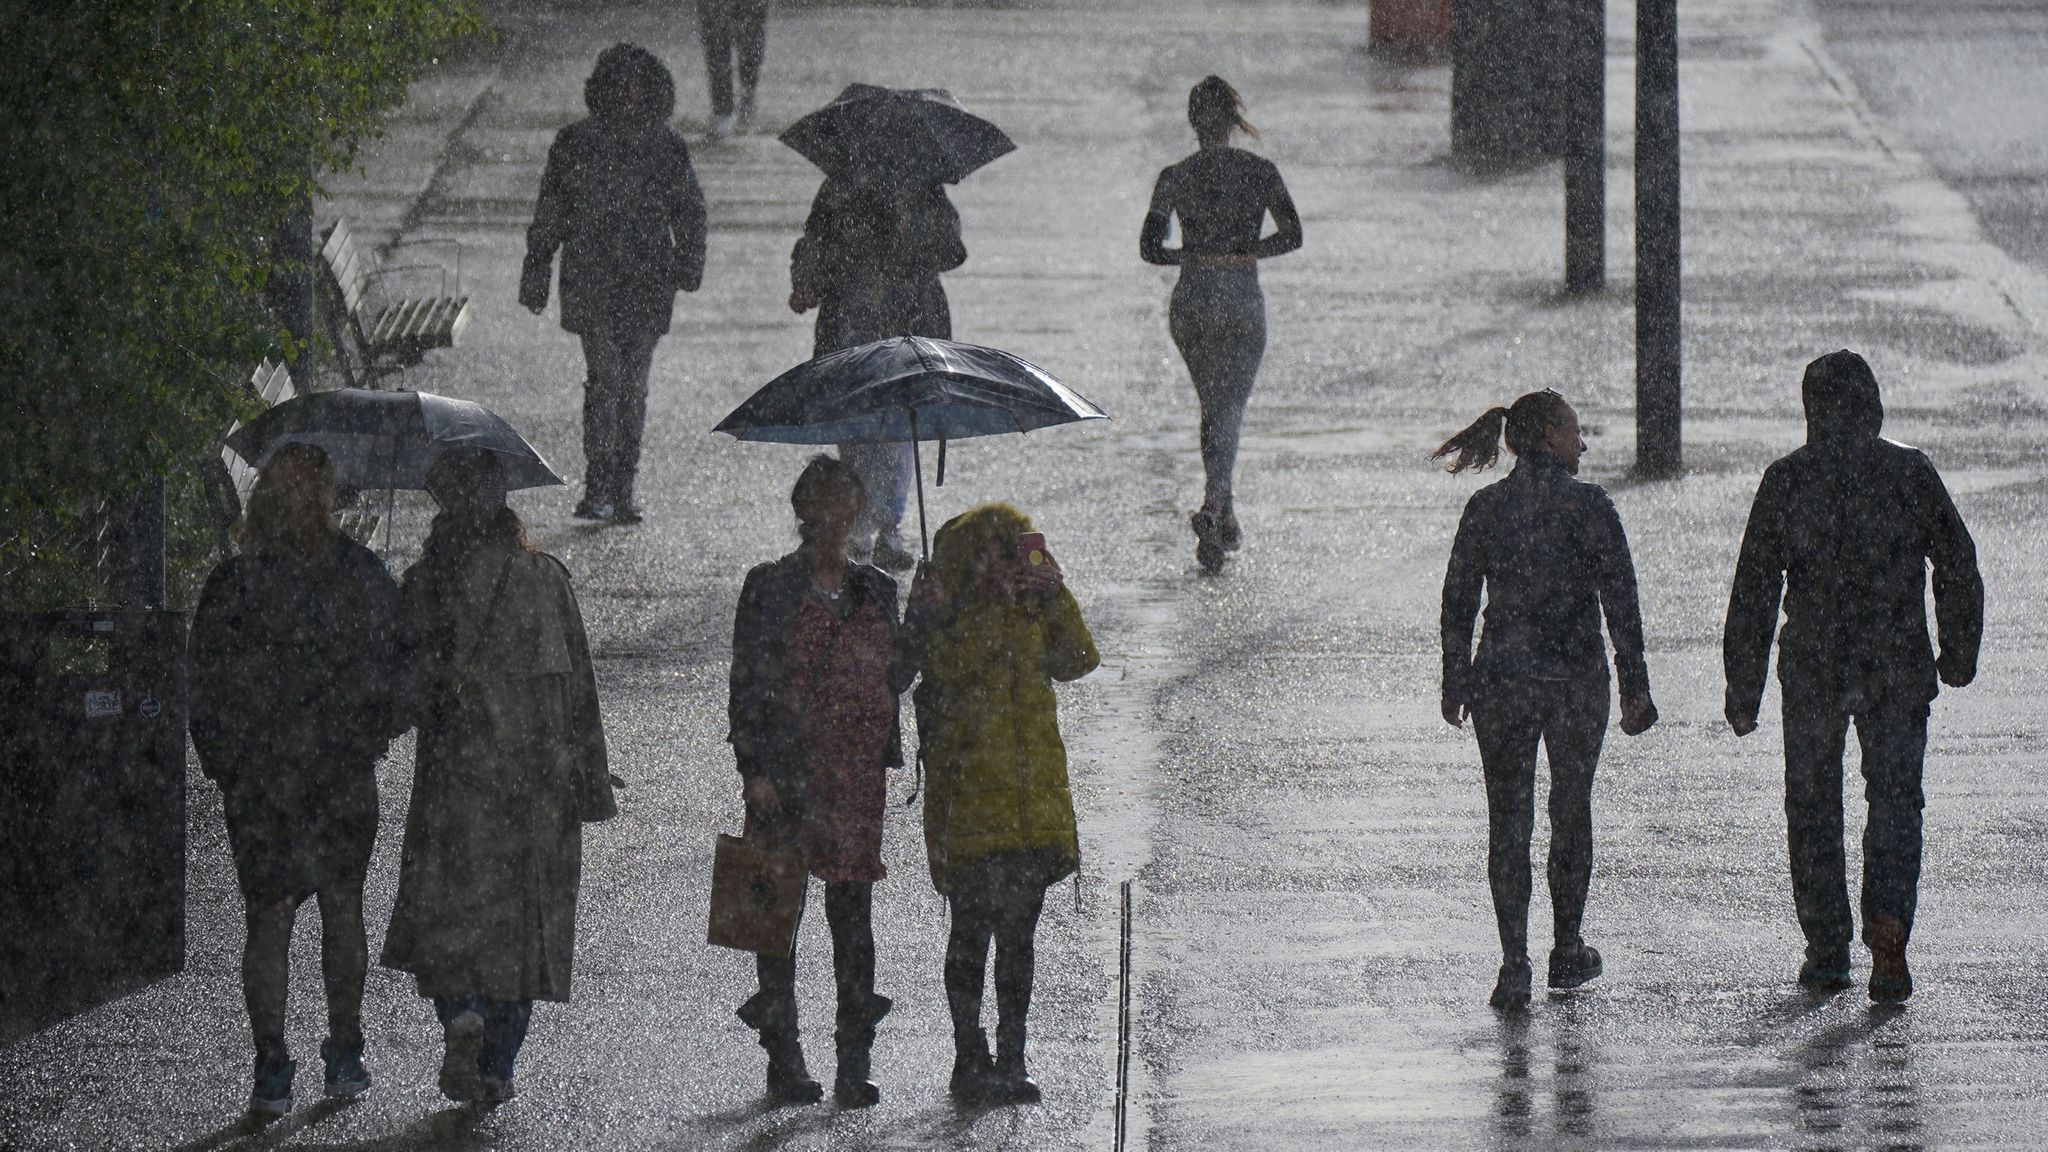person: (1434, 388, 1653, 1015), (730, 450, 908, 1106), (919, 506, 1079, 1108)
